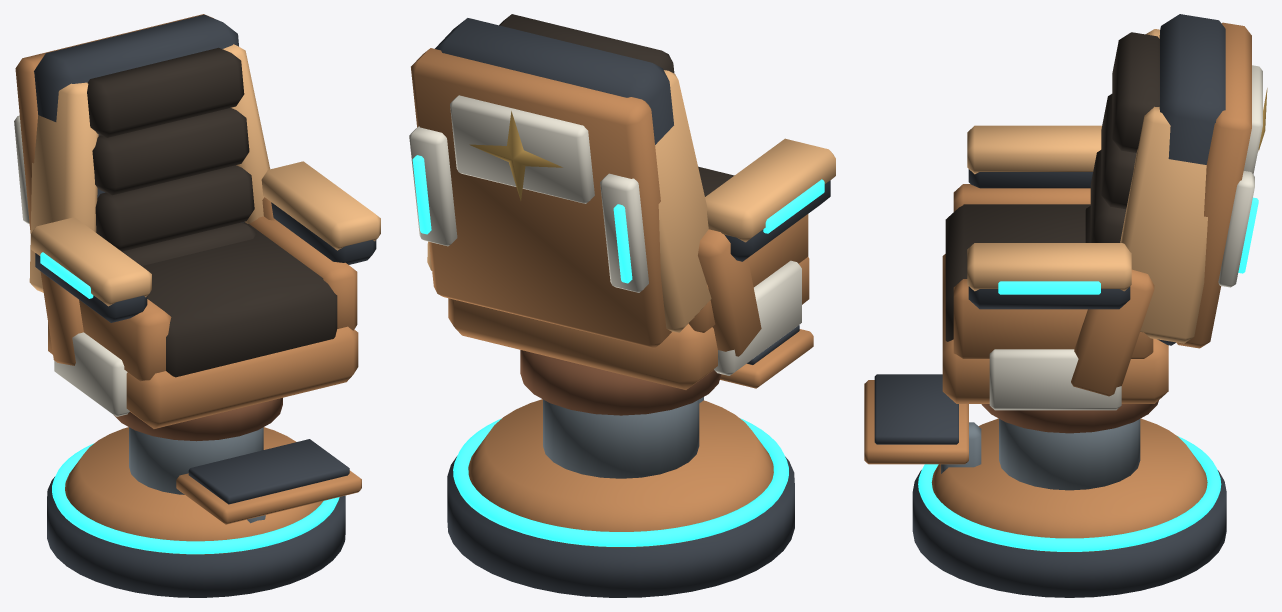
Rendered from Operator_Chair.glb.
The picture shows the model from 3 angles, left to right: view 1: azimuth 30°, elevation 25°; view 2: azimuth 150°, elevation 25°; view 3: azimuth 270°, elevation 25°; orthographic projection. The views are drawn at different scales.
Visible parts, largest first — view 1: Swivel, Backrest, Root; view 2: Backrest, Root, Swivel; view 3: Root, Swivel, Backrest.
Part boxes in pixels (x1=…): Swivel: x1=31, y1=161, x2=380, y2=428; Backrest: x1=14, y1=14, x2=270, y2=292; Root: x1=47, y1=398, x2=361, y2=597; Backrest: x1=409, y1=14, x2=711, y2=348; Root: x1=447, y1=325, x2=813, y2=597; Swivel: x1=448, y1=138, x2=835, y2=389; Root: x1=864, y1=374, x2=1226, y2=597; Swivel: x1=942, y1=125, x2=1168, y2=410; Backrest: x1=1085, y1=14, x2=1267, y2=348.
Size of the model in its own units: 0.8547 by 1.31 by 1.
